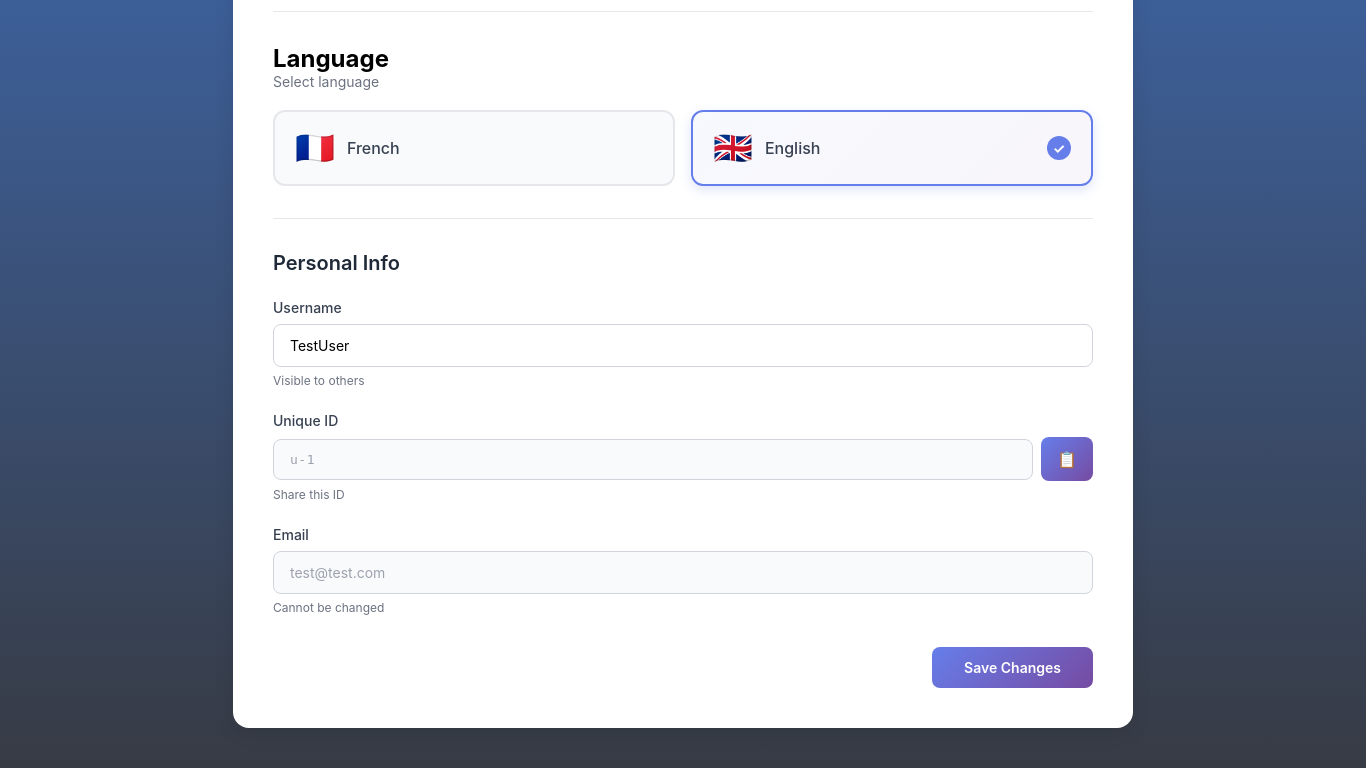
Test: SettingsPage › should handle clipboard error
(page scrolled)
Step 1. Click the button "📋" → (1067, 459), box [1041,437,1093,481]
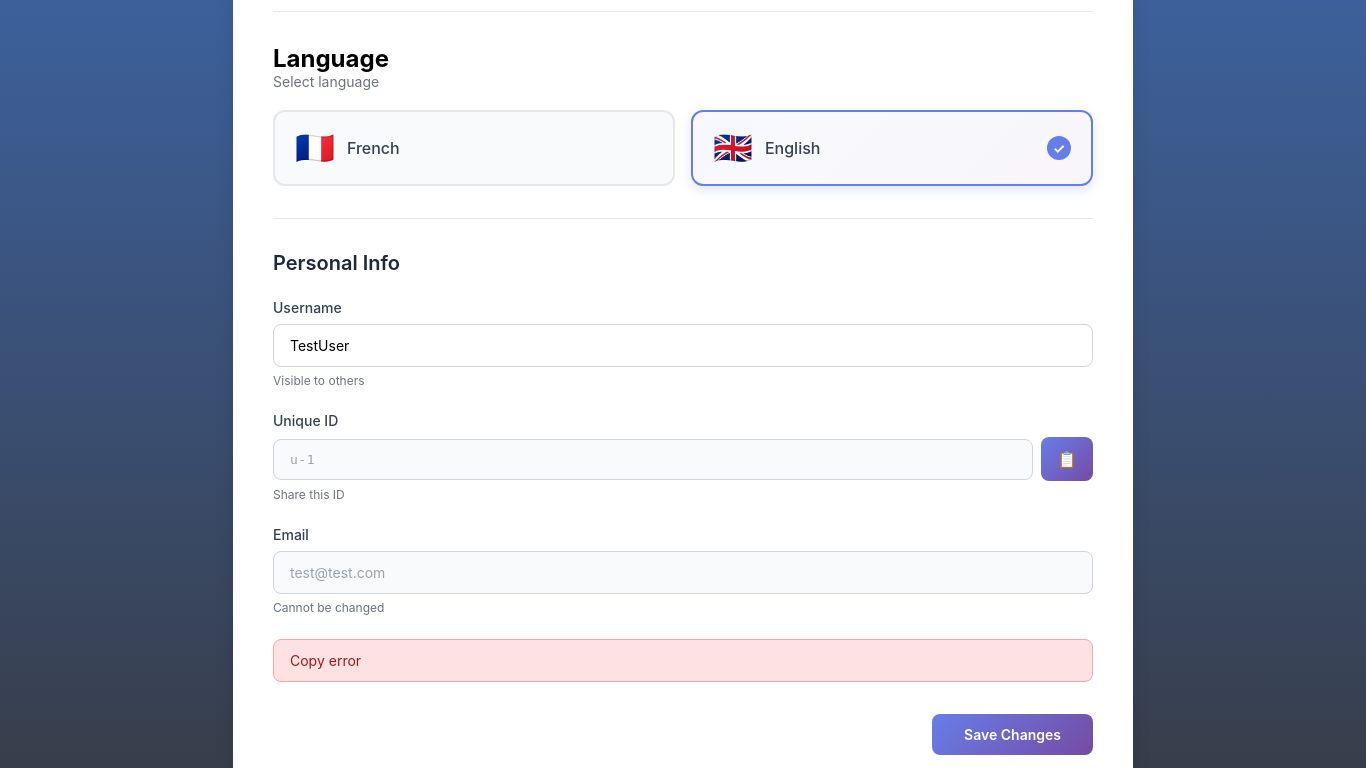
Expected: the text "Copy error" is shown, [273,639,1093,682]
